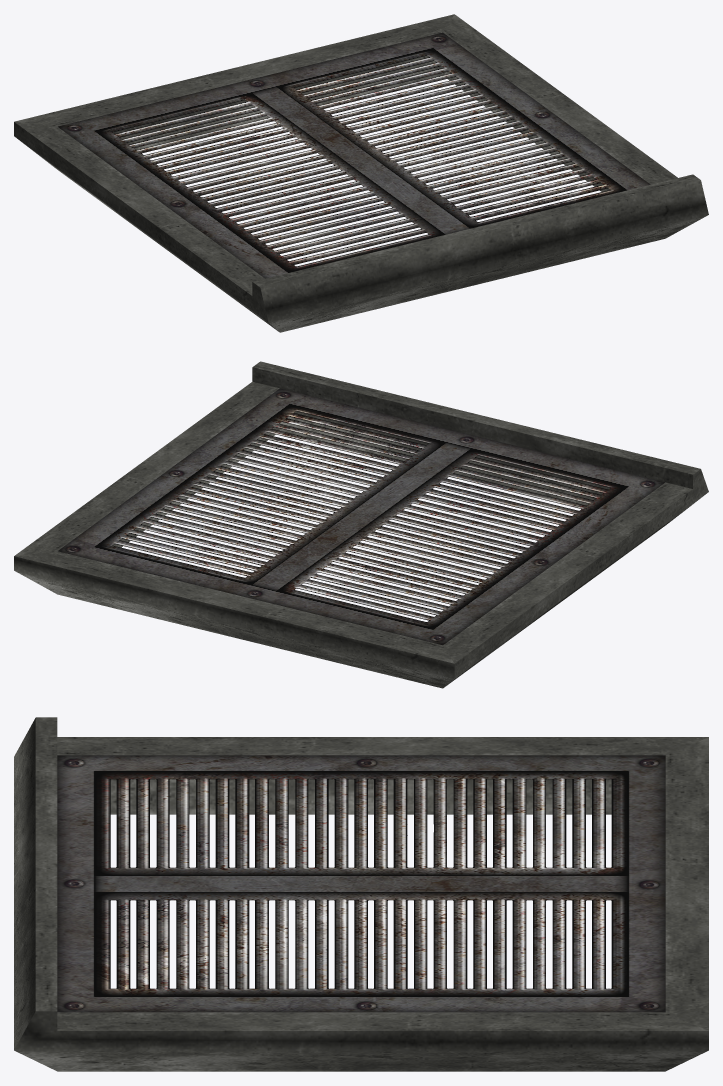
Rendered from catwalk_B_T.fbx.
3 renders of one model, top to bottom at view 1: azimuth 30°, elevation 25°; view 2: azimuth 150°, elevation 25°; view 3: azimuth 270°, elevation 25°, orthographic. The views are drawn at different scales.
Visible parts, largest first — view 1: polySurface487, pCube250; view 2: polySurface487, pCube250; view 3: polySurface487, pCube250.
Boxes of the visible parts, box(x1,y1,x2,y2) form: polySurface487: box(58, 32, 650, 278); pCube250: box(14, 14, 708, 332); polySurface487: box(58, 388, 664, 645); pCube250: box(14, 361, 708, 688); polySurface487: box(57, 755, 665, 1012); pCube250: box(14, 717, 708, 1071).
Size of the model in its own units: 800 by 100 by 800.
